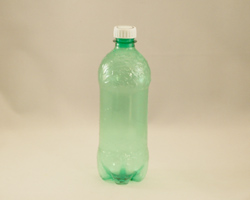Rec_Plastic: (93, 26, 149, 183)
